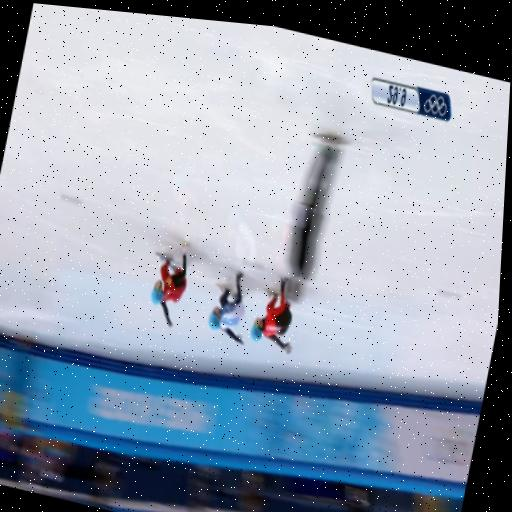Skater: (251, 279, 292, 353), (152, 242, 187, 326), (209, 271, 245, 343)
